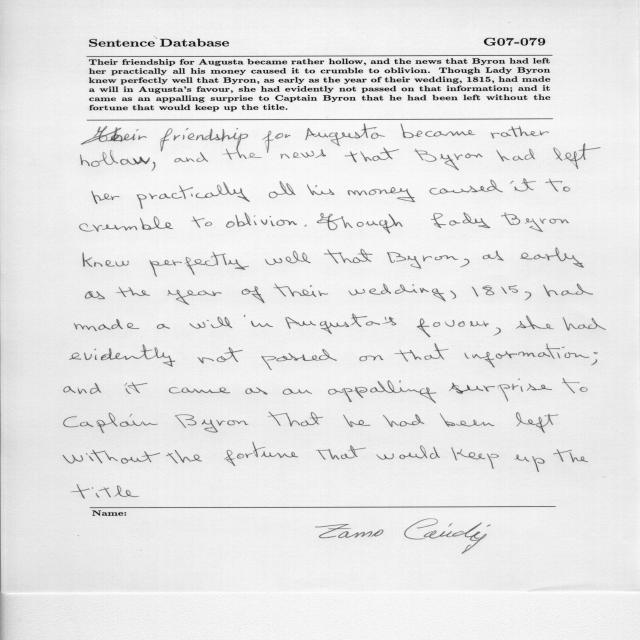word: (286, 314, 431, 337), (465, 344, 598, 368), (136, 182, 250, 208), (160, 128, 248, 159), (149, 252, 249, 277), (328, 380, 436, 403), (70, 344, 176, 367), (449, 379, 552, 402), (491, 125, 586, 147), (64, 413, 158, 434), (317, 213, 403, 234), (224, 442, 298, 466), (305, 124, 385, 146), (349, 284, 446, 302), (261, 349, 337, 370), (81, 150, 156, 171), (79, 216, 173, 232), (415, 149, 483, 170), (501, 212, 569, 232), (63, 450, 160, 464), (175, 415, 248, 433), (520, 248, 584, 268), (81, 126, 147, 145), (387, 252, 458, 269), (430, 180, 503, 195), (226, 213, 297, 228), (401, 124, 476, 138), (554, 147, 601, 169), (452, 447, 499, 469), (395, 343, 448, 362), (348, 187, 415, 202), (376, 445, 440, 460), (431, 213, 490, 228), (472, 286, 531, 301), (516, 412, 558, 433), (345, 148, 399, 163), (168, 290, 222, 305), (75, 319, 140, 331), (268, 412, 323, 426), (440, 413, 494, 427), (316, 445, 366, 460), (197, 348, 243, 364), (324, 249, 373, 264), (273, 284, 328, 297), (83, 252, 129, 267), (265, 251, 311, 265), (263, 131, 291, 153), (563, 317, 606, 331), (71, 484, 111, 498), (383, 414, 424, 427), (516, 316, 554, 330), (514, 455, 545, 472), (190, 317, 233, 329), (496, 149, 535, 162), (166, 450, 202, 463), (280, 149, 326, 159), (269, 181, 296, 198), (553, 449, 588, 462), (223, 149, 262, 160), (64, 383, 101, 394), (433, 320, 489, 327), (242, 286, 265, 303), (562, 379, 588, 394), (561, 284, 593, 296), (169, 387, 230, 393), (92, 191, 119, 204), (244, 315, 273, 327), (511, 179, 537, 192), (117, 287, 150, 297), (546, 179, 571, 192), (343, 415, 370, 427), (114, 485, 140, 497), (307, 184, 334, 195), (125, 382, 148, 394), (192, 216, 213, 228), (483, 251, 504, 261), (283, 388, 312, 395), (543, 285, 559, 297), (246, 387, 268, 395), (85, 291, 105, 299), (360, 355, 384, 361), (197, 152, 208, 162), (174, 157, 195, 162), (460, 259, 470, 268), (157, 324, 170, 329), (493, 328, 501, 336), (450, 291, 456, 299), (594, 352, 598, 354), (304, 225, 307, 227)
